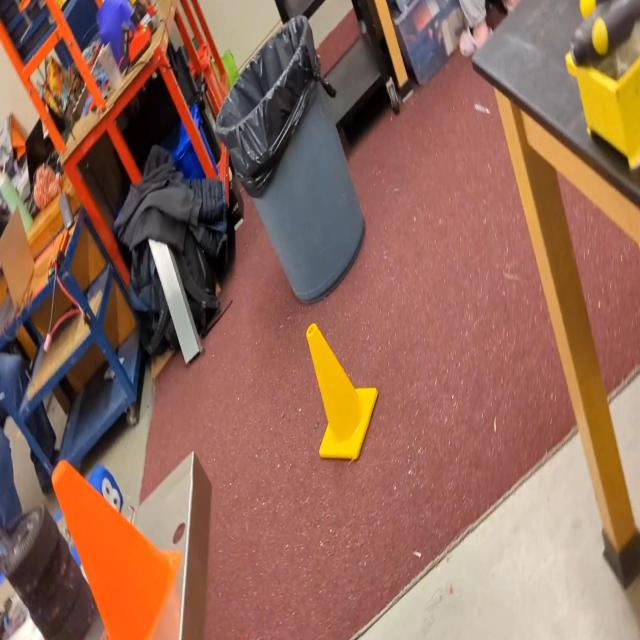frc_cone: (304, 319, 379, 465)
